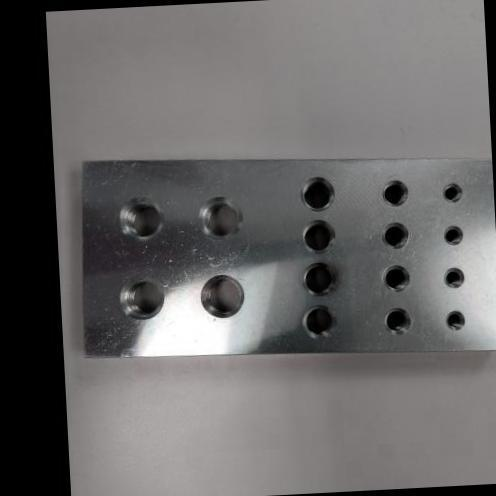hole: (194, 192, 246, 242), (116, 274, 168, 322), (198, 270, 248, 318), (116, 194, 164, 243), (297, 174, 336, 214), (298, 218, 338, 257), (300, 260, 340, 298), (299, 302, 339, 340), (380, 262, 412, 294), (382, 304, 414, 336), (378, 220, 411, 251), (380, 176, 411, 207), (441, 180, 464, 204), (442, 266, 466, 289), (441, 224, 464, 246), (445, 309, 466, 330)
